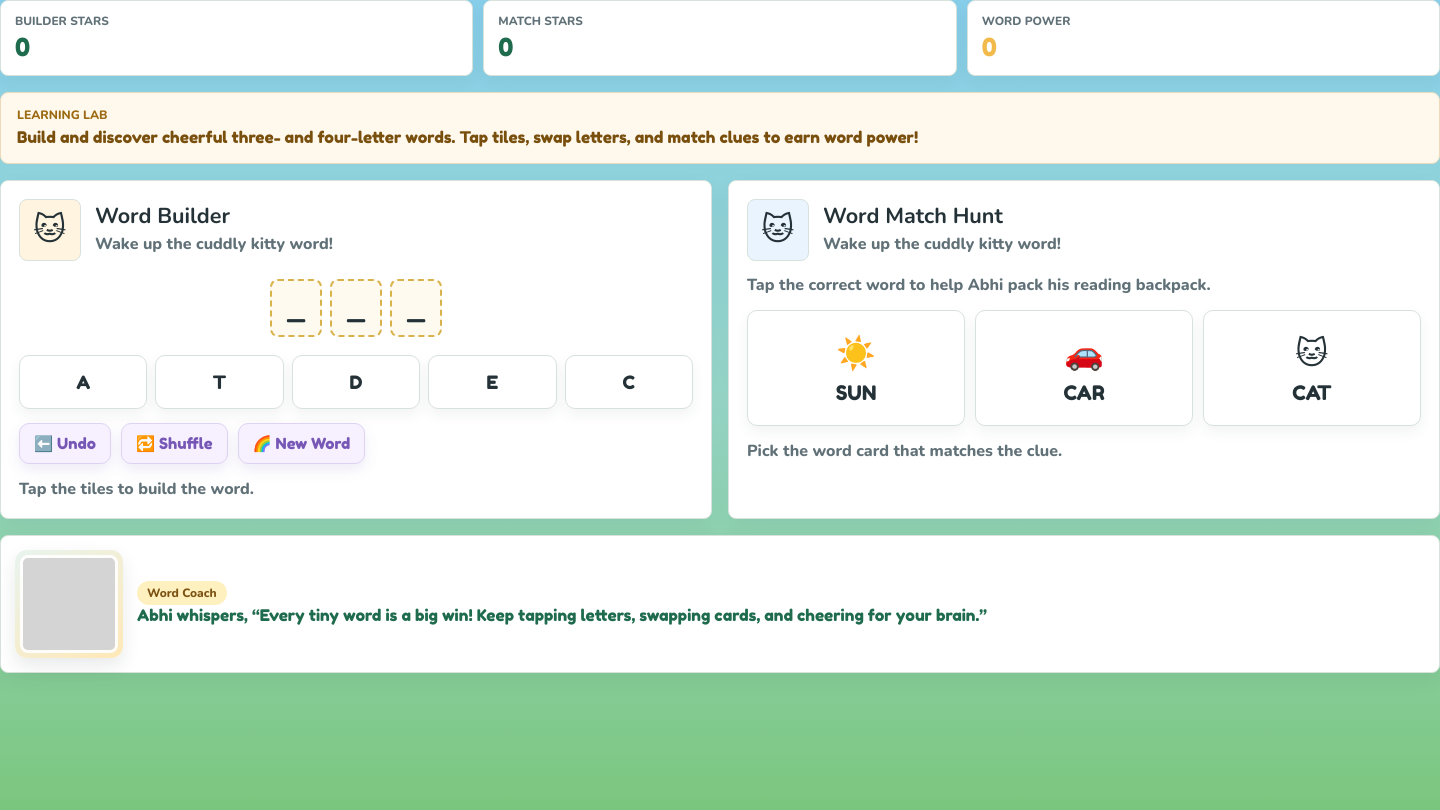
Test: LearningLab › celebrates when the builder word is completed and awards a star
Click the button "C" at (629, 382), box 565,355 -> 693,409
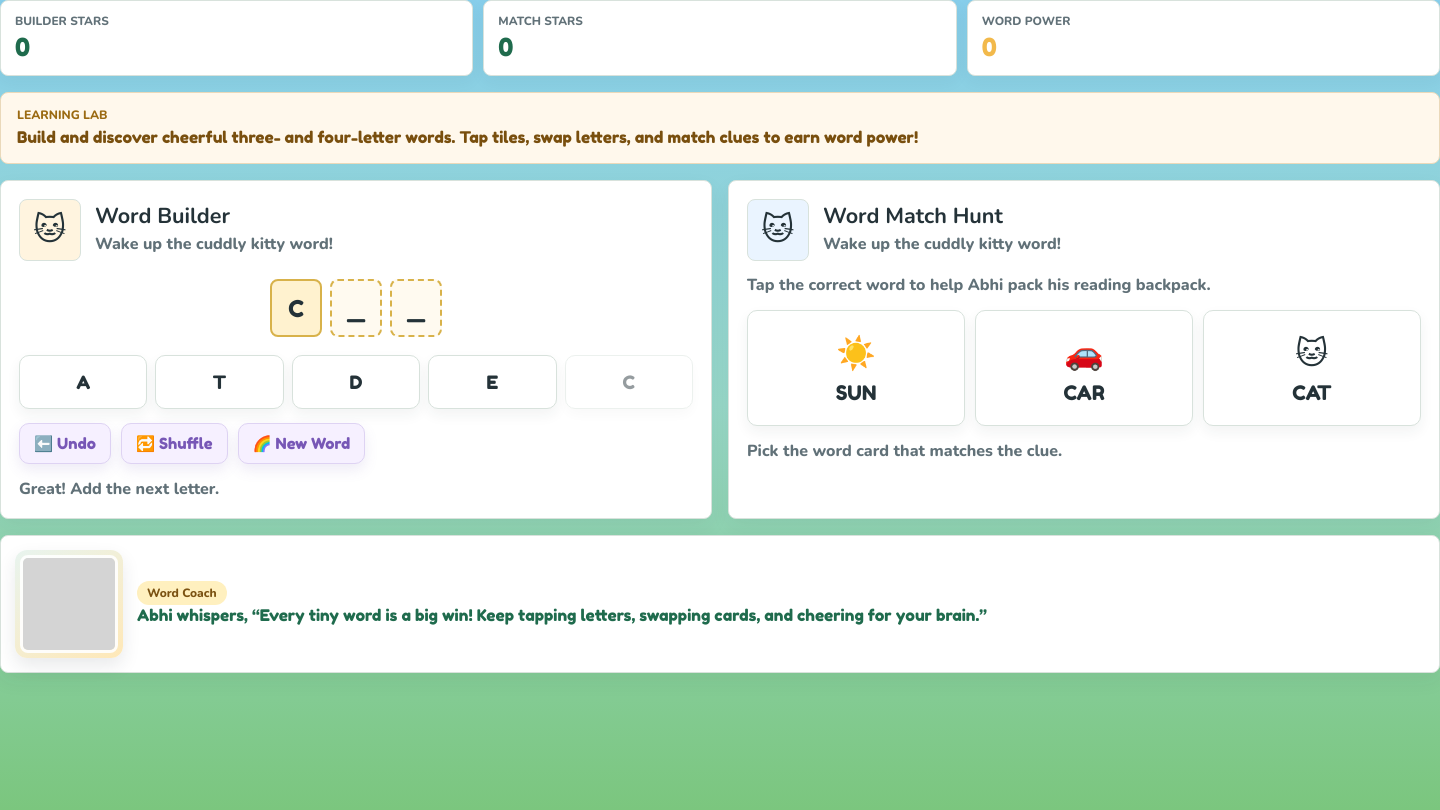
Click the button "A" at (83, 382), box 19,355 -> 147,409
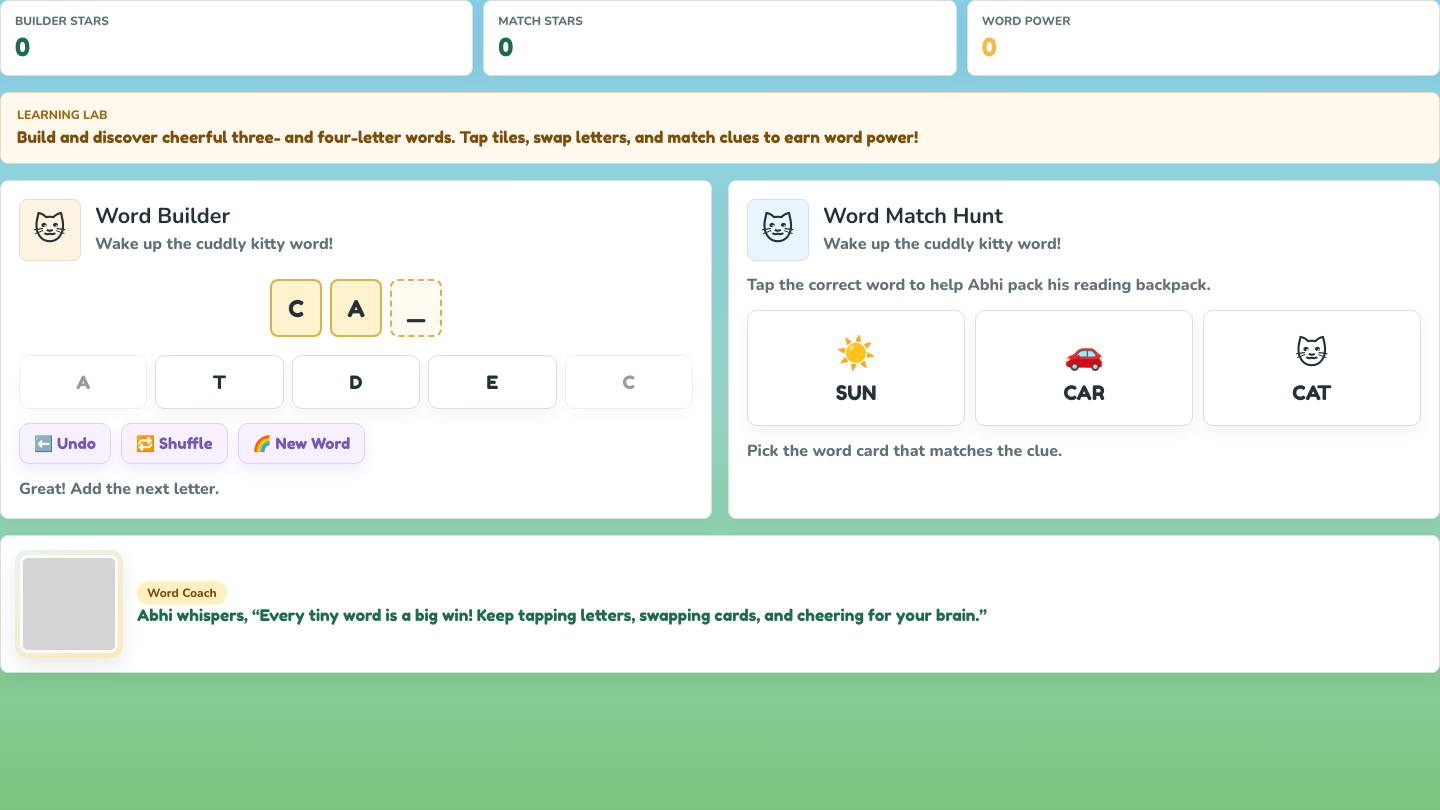
Click the button "T" at (220, 382), box 155,355 -> 284,409
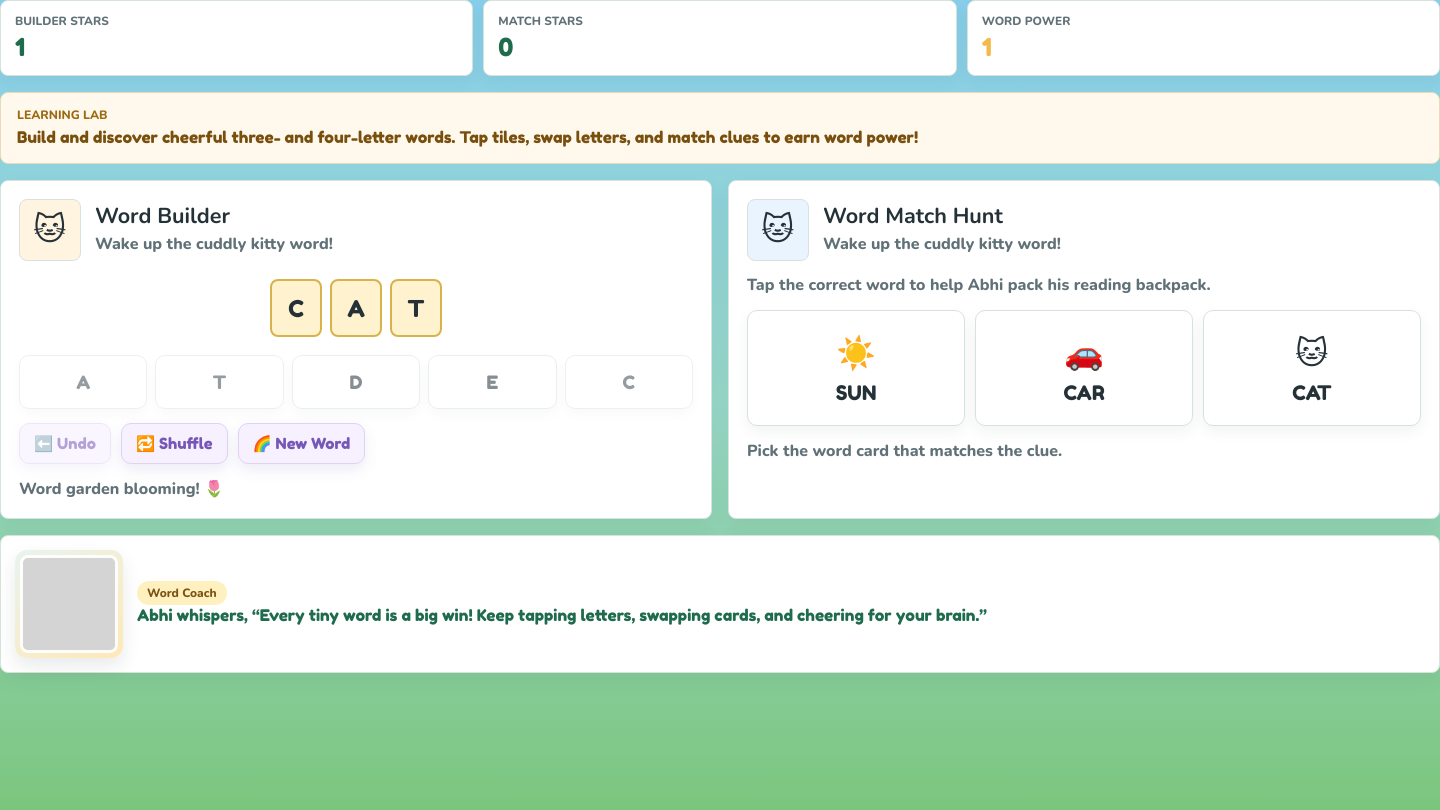
Expected: the text "Word garden blooming! 🌷" is shown, 19,478 -> 224,500
